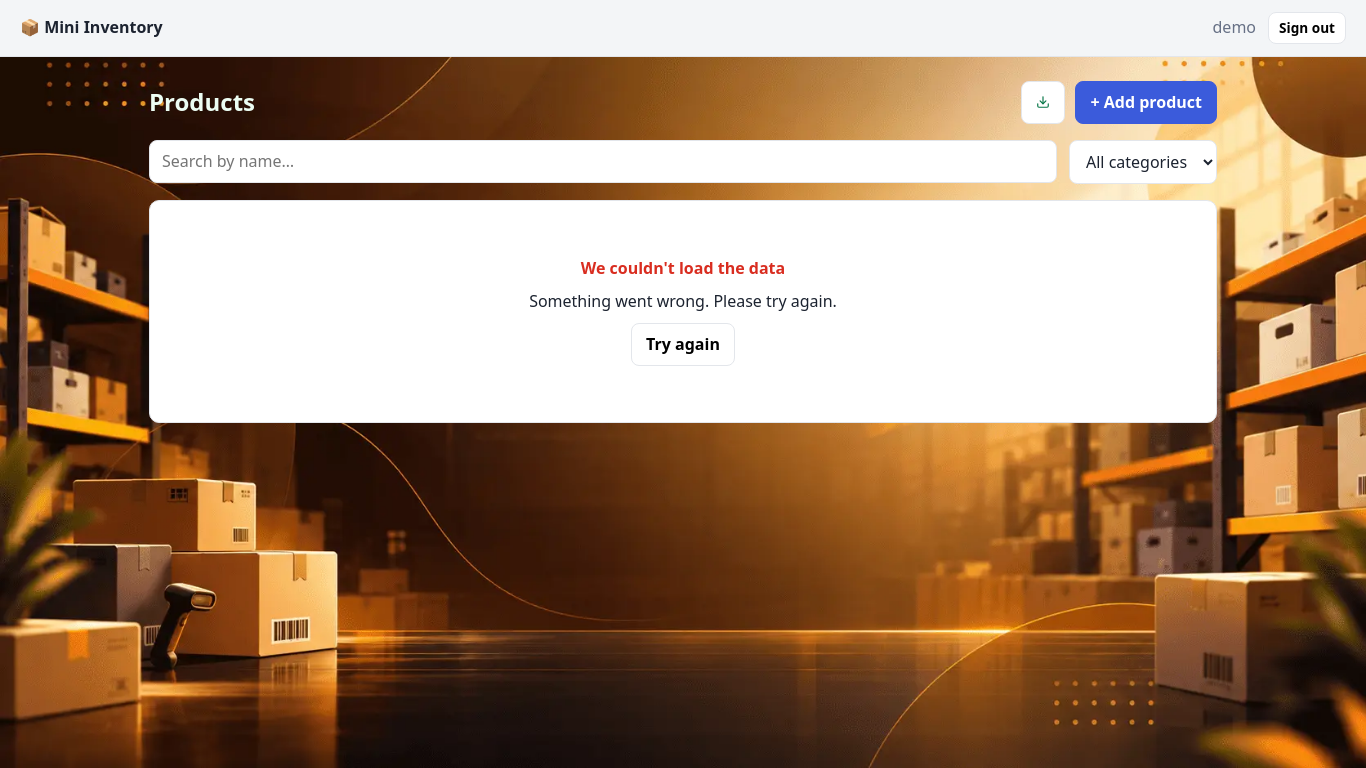
Test: ProductsPage › shows an error state with a working retry
Expected: the message shows "couldn't load", [581,257,785,279]
Click the button "Try again": (683, 345) [631,323,735,366]
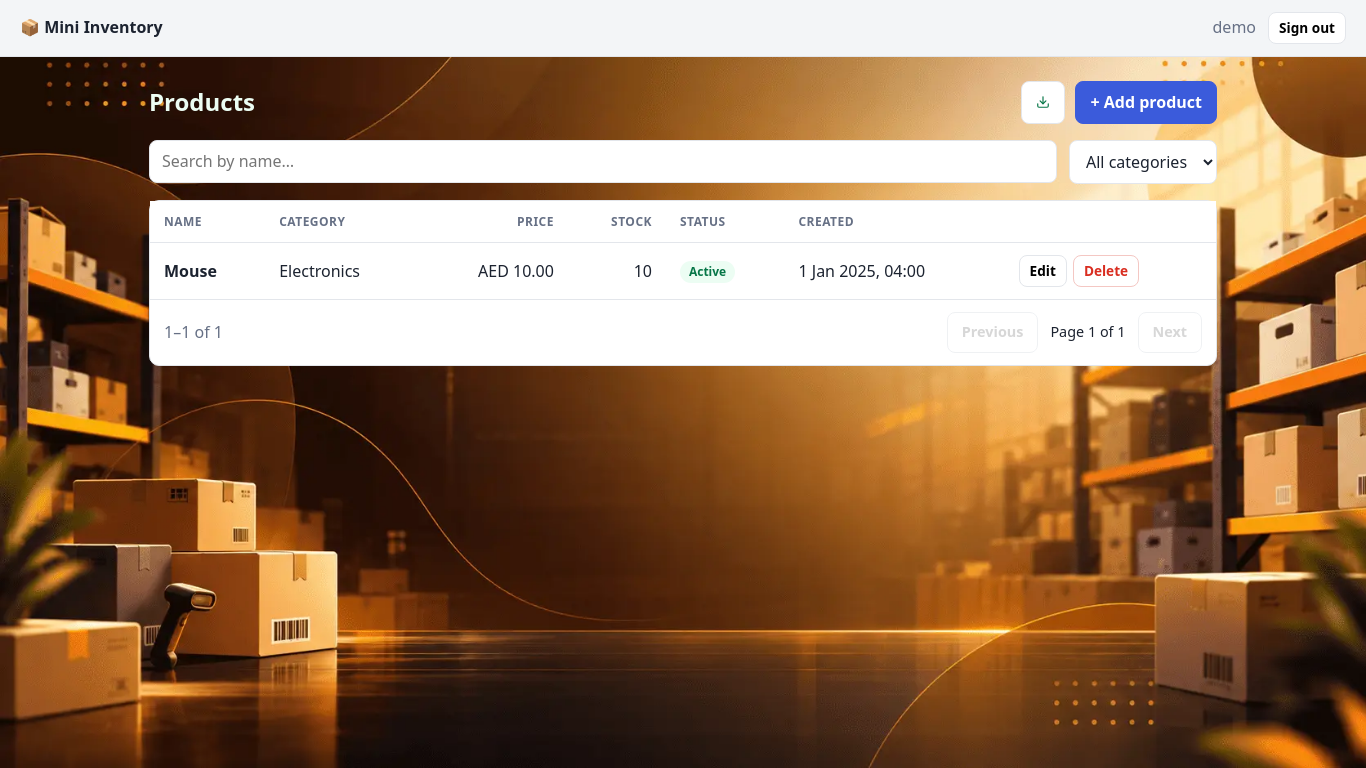
Expected: the text "Mouse" is shown, [150,243,265,299]
